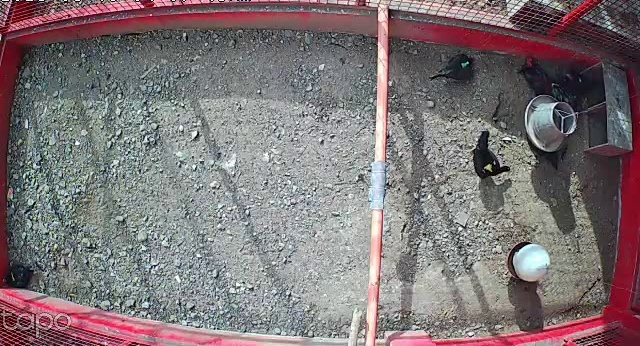Chicken: (555, 61, 610, 100), (471, 128, 511, 181), (429, 50, 474, 84), (2, 258, 34, 288)
Rooster: (510, 47, 556, 100)
Saddle_Color_Yellow: (483, 164, 494, 173)
